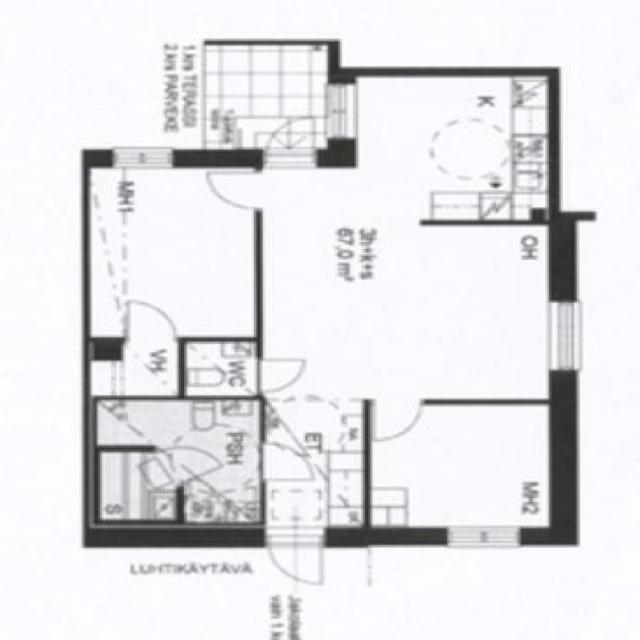door: (91, 410, 265, 534), (262, 528, 329, 586), (254, 128, 325, 171), (122, 298, 181, 341), (204, 168, 264, 210), (255, 440, 311, 484), (372, 399, 427, 443), (252, 356, 306, 396)
window: (546, 298, 586, 378), (323, 76, 363, 148), (436, 523, 530, 551), (103, 146, 183, 168)
zone: (266, 220, 554, 398), (298, 542, 640, 640), (86, 163, 260, 339), (347, 75, 559, 219), (368, 402, 550, 540), (91, 397, 269, 533), (86, 333, 180, 398), (182, 338, 259, 399)
